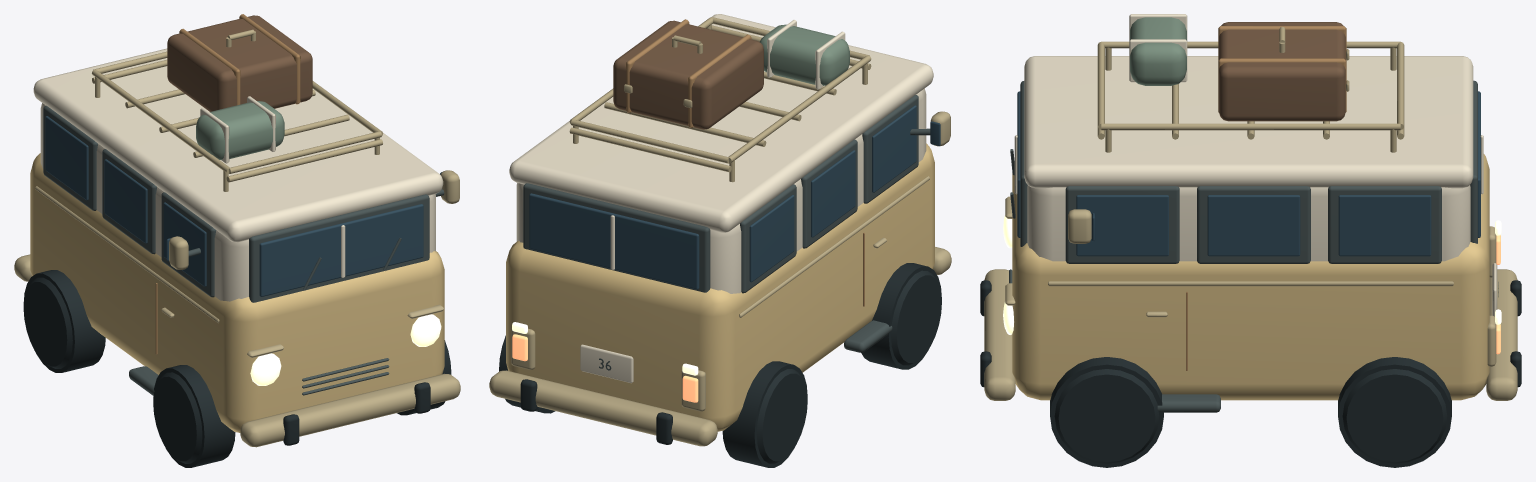
Rendered from bus.glb.
3 renders of one model, left to right at view 1: azimuth 30°, elevation 25°; view 2: azimuth 150°, elevation 25°; view 3: azimuth 270°, elevation 25°, orthographic. The views are drawn at different scales.
Visible parts, largest first — view 1: Rounded cream coachwork, Curved roof cap, Leather suitcase, Wide curved glazing.001, Chrome bumper.001, Ivory cabin, Travel satchel, Window gasket.001, Rounded tire shoulder, Rounded tire shoulder.001, Rubber tire, Rubber tire.001 (+22 smaller); view 2: Rounded cream coachwork, Curved roof cap, Leather suitcase, Wide curved glazing, Chrome bumper, Ivory cabin, Travel satchel, Rounded tire shoulder, Rounded tire shoulder.001, Window gasket, Rubber tire, Side glazing (+20 smaller); view 3: Rounded cream coachwork, Curved roof cap, Leather suitcase, Rounded tire shoulder.002, Rounded tire shoulder.003, Ivory cabin, Side glazing.003, Side glazing.004, Side glazing.005, Travel satchel, Side window frame.004, Side window frame.003 (+17 smaller).
Part boxes in pixels (left/top/right/bottom): Rounded cream coachwork: left=30, top=153, right=444, bottom=432; Curved roof cap: left=33, top=48, right=443, bottom=242; Leather suitcase: left=167, top=15, right=312, bottom=111; Wide curved glazing.001: left=259, top=204, right=423, bottom=296; Chrome bumper.001: left=240, top=373, right=460, bottom=447; Ivory cabin: left=40, top=103, right=435, bottom=301; Travel satchel: left=196, top=101, right=284, bottom=159; Window gasket.001: left=249, top=194, right=429, bottom=302; Rounded tire shoulder: left=23, top=277, right=72, bottom=368; Rounded tire shoulder.001: left=153, top=372, right=202, bottom=463; Rubber tire: left=23, top=270, right=105, bottom=372; Rubber tire.001: left=153, top=365, right=235, bottom=467; Rounded cream coachwork: left=506, top=143, right=934, bottom=431; Curved roof cap: left=509, top=14, right=933, bottom=232; Leather suitcase: left=613, top=20, right=763, bottom=129; Wide curved glazing: left=529, top=193, right=699, bottom=289; Chrome bumper: left=489, top=370, right=717, bottom=446; Ivory cabin: left=516, top=88, right=926, bottom=293; Travel satchel: left=760, top=24, right=849, bottom=85; Rounded tire shoulder: left=756, top=369, right=807, bottom=463; Rounded tire shoulder.001: left=891, top=270, right=941, bottom=365; Window gasket: left=523, top=183, right=710, bottom=292; Rubber tire: left=722, top=361, right=807, bottom=467; Side glazing: left=749, top=195, right=794, bottom=282; Rounded cream coachwork: left=1012, top=154, right=1489, bottom=400; Curved roof cap: left=1024, top=56, right=1473, bottom=188; Leather suitcase: left=1219, top=22, right=1345, bottom=121; Rounded tire shoulder.002: left=1342, top=369, right=1447, bottom=463; Rounded tire shoulder.003: left=1054, top=369, right=1159, bottom=463; Ivory cabin: left=1027, top=185, right=1470, bottom=261; Side glazing.003: left=1338, top=195, right=1431, bottom=256; Side glazing.004: left=1207, top=195, right=1300, bottom=256; Side glazing.005: left=1076, top=195, right=1168, bottom=256; Travel satchel: left=1130, top=17, right=1186, bottom=85; Side window frame.004: left=1197, top=186, right=1310, bottom=263; Side window frame.003: left=1328, top=186, right=1441, bottom=263.
Bounding box in the file's own units: 2.56 × 2.92 × 3.8.
